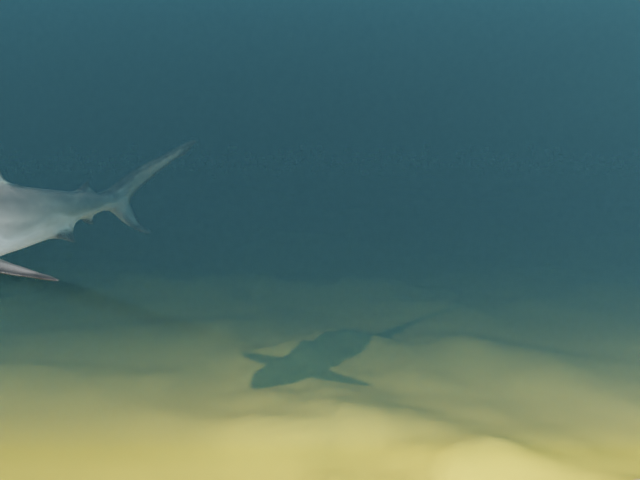Carribean Shark.001: (0, 135, 196, 281)
